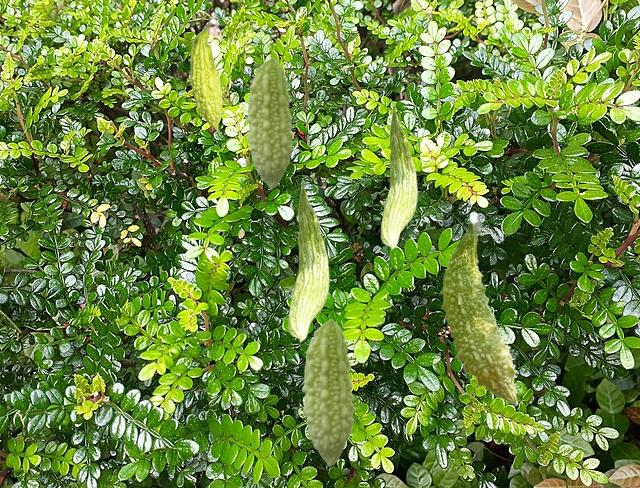ampalaya: (439, 211, 518, 404), (301, 318, 355, 467), (287, 179, 330, 343), (245, 56, 293, 190), (380, 103, 418, 251), (189, 21, 223, 135)
